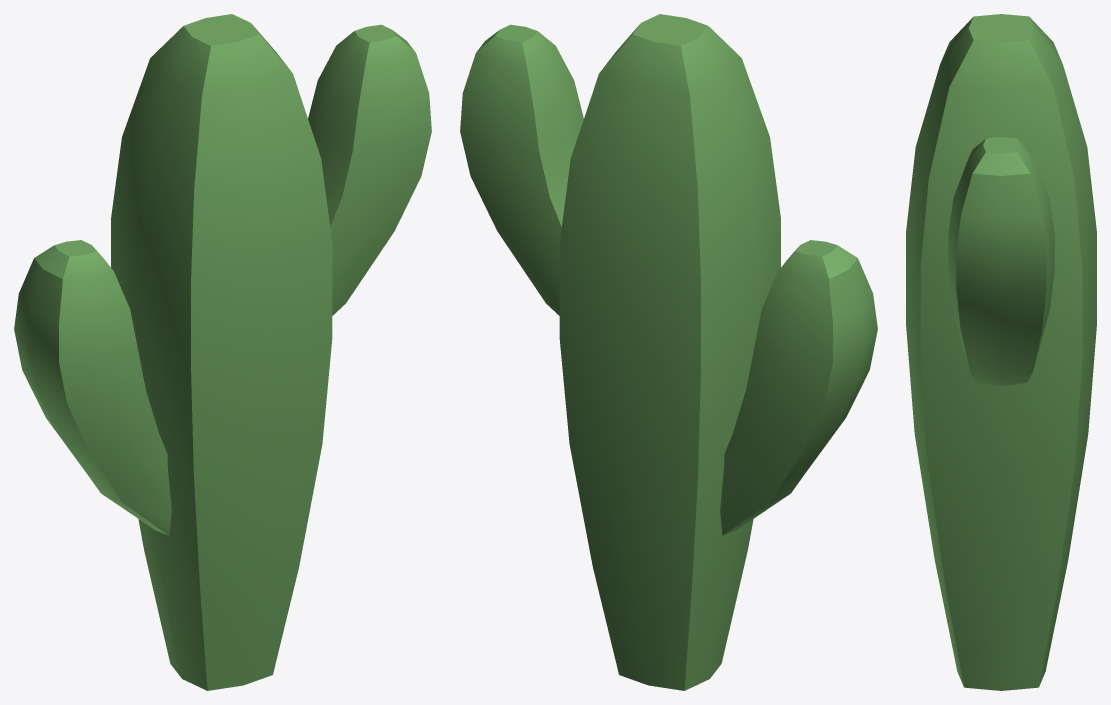
File: Cactus2.fbx
3 renders of one model, left to right at view 1: azimuth 30°, elevation 25°; view 2: azimuth 150°, elevation 25°; view 3: azimuth 270°, elevation 25°, orthographic.
Parts seen in each view (by area): view 1: pCube90; view 2: pCube90; view 3: pCube90.
Boxes of the visible parts, x1=… form: pCube90: x1=14, y1=14, x2=431, y2=690; pCube90: x1=460, y1=14, x2=877, y2=690; pCube90: x1=906, y1=14, x2=1096, y2=690.
Size of the model in its own units: 2.11 by 3.3 by 0.8876.
